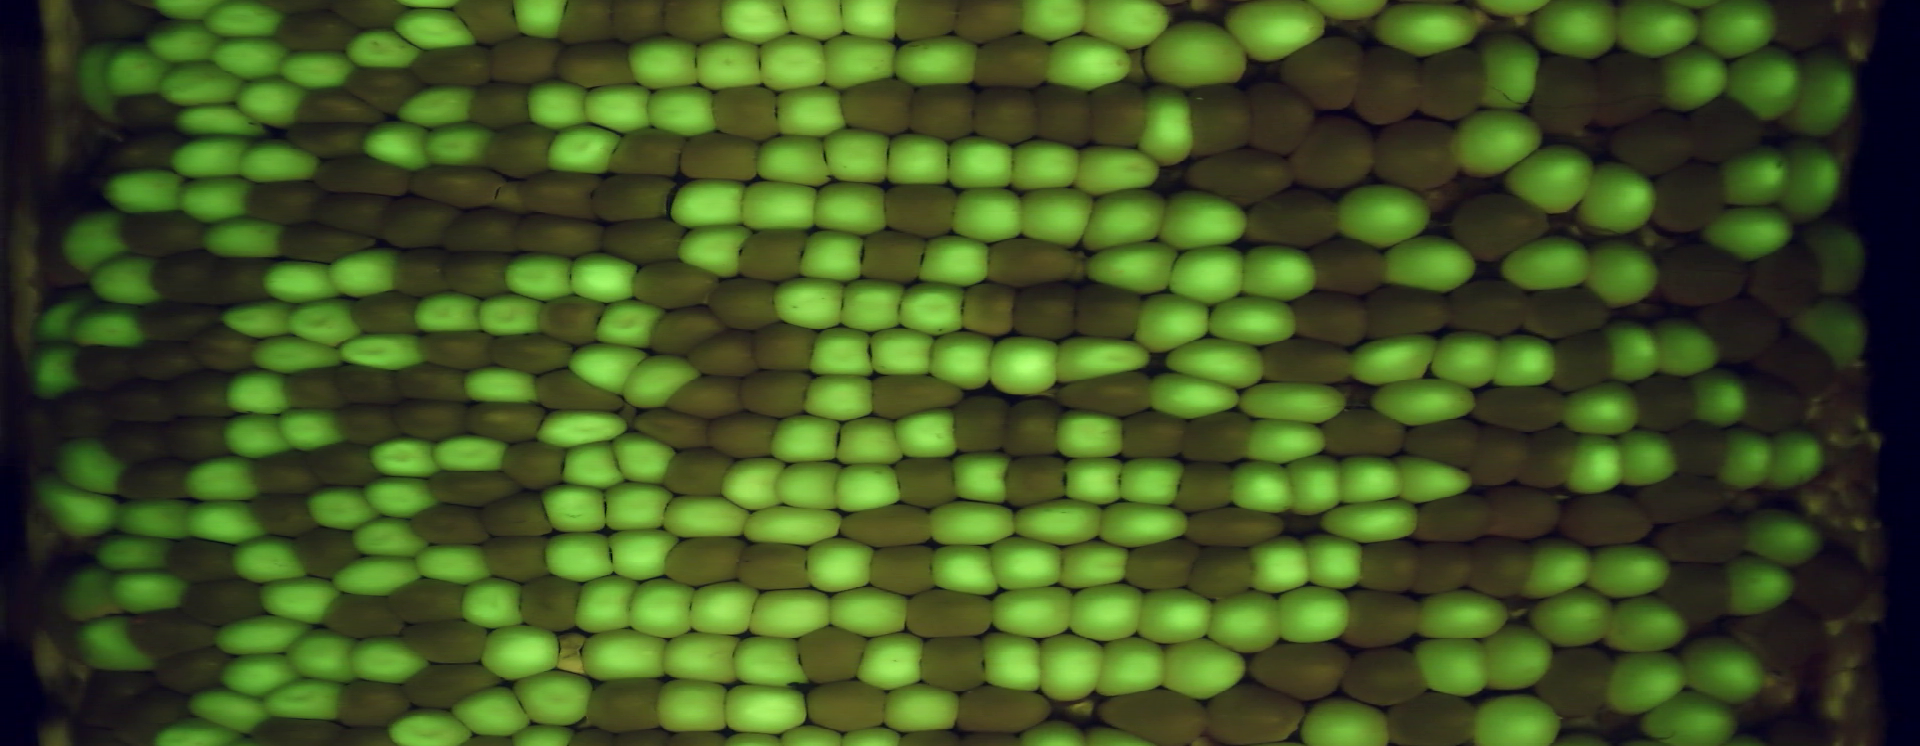fluorescent: (1707, 37, 1806, 127), (1782, 44, 1866, 138), (1140, 18, 1251, 89), (1447, 107, 1551, 183), (1075, 176, 1172, 257), (1499, 141, 1598, 218), (1365, 1, 1488, 64), (1217, 1, 1333, 66), (1771, 130, 1850, 224), (1570, 158, 1663, 238), (1637, 681, 1750, 746), (1332, 179, 1431, 251), (1473, 27, 1551, 118), (28, 469, 124, 543), (65, 610, 165, 679), (1035, 29, 1138, 96), (1653, 39, 1741, 116), (1576, 236, 1665, 312), (1598, 646, 1689, 719), (1680, 632, 1771, 706), (1380, 230, 1480, 296), (1157, 187, 1254, 256), (1155, 635, 1251, 702), (1596, 590, 1693, 657), (1079, 239, 1187, 299), (1531, 1, 1629, 66), (1493, 230, 1594, 293), (1046, 330, 1156, 387), (1788, 295, 1872, 369), (1407, 586, 1513, 643), (1032, 630, 1111, 707), (1523, 586, 1616, 650), (1204, 587, 1287, 659), (1464, 691, 1573, 746), (1015, 179, 1100, 250), (1476, 624, 1560, 695), (1581, 541, 1678, 603), (1516, 534, 1605, 600), (1613, 1, 1704, 65), (617, 350, 705, 416), (1404, 633, 1493, 699), (1008, 492, 1111, 549), (1703, 202, 1798, 263), (1135, 78, 1199, 169), (475, 621, 566, 685), (1236, 379, 1353, 428), (1344, 330, 1442, 388), (1693, 1, 1793, 59), (1367, 379, 1483, 428), (1128, 290, 1213, 356), (1801, 216, 1871, 296), (887, 33, 984, 91), (576, 627, 673, 685), (1168, 240, 1250, 309), (1272, 582, 1356, 649), (1741, 502, 1824, 570), (178, 681, 279, 736), (1205, 292, 1302, 349), (982, 330, 1060, 401), (726, 628, 813, 692), (1075, 1, 1176, 56), (255, 671, 355, 726), (1145, 366, 1245, 421), (49, 432, 132, 499), (742, 584, 838, 642), (984, 583, 1080, 641), (975, 627, 1051, 699), (1718, 552, 1798, 621), (509, 668, 598, 729), (816, 34, 905, 94), (562, 339, 651, 399), (660, 628, 749, 688), (69, 36, 126, 129), (1297, 693, 1398, 746), (1424, 326, 1505, 392), (156, 56, 252, 111), (1068, 143, 1164, 198), (721, 679, 816, 735), (1556, 379, 1644, 439), (752, 29, 831, 96), (751, 130, 836, 191), (1164, 338, 1266, 390), (622, 31, 704, 94), (1065, 579, 1147, 643), (601, 524, 688, 584), (167, 171, 263, 225), (947, 183, 1030, 245), (56, 207, 133, 274), (827, 582, 915, 641), (1236, 241, 1320, 303), (233, 135, 331, 187), (924, 499, 1022, 551), (1318, 497, 1423, 546), (684, 579, 765, 643), (924, 539, 1005, 603), (1390, 448, 1476, 508), (1760, 425, 1829, 499), (808, 176, 890, 239), (1133, 584, 1215, 647), (1716, 145, 1800, 205), (653, 673, 733, 735), (1093, 501, 1194, 551), (623, 576, 697, 644), (256, 571, 345, 627), (876, 680, 965, 736), (329, 549, 425, 601), (162, 100, 276, 145), (923, 328, 999, 394), (1093, 635, 1171, 699), (541, 119, 624, 179), (1327, 450, 1411, 510), (989, 532, 1068, 595), (687, 32, 767, 94), (770, 78, 850, 141), (1713, 424, 1780, 497), (768, 274, 850, 334), (211, 611, 309, 661), (656, 491, 754, 541), (96, 167, 191, 218), (178, 451, 264, 507), (816, 127, 894, 190), (942, 132, 1021, 194), (666, 174, 751, 232), (225, 530, 313, 586), (913, 232, 994, 292), (800, 535, 876, 599), (351, 632, 433, 691), (164, 129, 253, 183), (737, 178, 820, 235), (576, 78, 662, 134), (1242, 532, 1313, 599), (1052, 404, 1131, 464), (740, 503, 845, 549), (207, 29, 295, 83), (894, 278, 970, 341), (140, 16, 231, 67), (84, 251, 167, 309), (768, 457, 850, 514), (1224, 456, 1303, 516), (1002, 137, 1085, 194), (571, 572, 643, 637), (447, 684, 534, 737), (193, 216, 291, 263), (795, 225, 869, 288), (598, 480, 682, 535), (718, 454, 793, 516), (231, 73, 309, 134), (567, 249, 644, 309), (640, 82, 722, 138), (324, 245, 407, 301), (589, 296, 675, 350), (255, 257, 347, 307), (852, 628, 924, 692), (391, 81, 484, 130), (247, 330, 345, 376), (26, 292, 102, 352), (415, 120, 503, 171), (835, 276, 912, 334), (534, 405, 637, 450), (535, 479, 612, 538), (184, 495, 269, 548), (940, 447, 1014, 508), (274, 44, 361, 96), (1651, 320, 1727, 379), (56, 560, 125, 625), (1689, 361, 1753, 430), (100, 38, 171, 100), (407, 538, 495, 588), (675, 222, 748, 282), (301, 481, 381, 537), (765, 412, 845, 467), (1240, 416, 1332, 464), (214, 409, 298, 462), (1565, 431, 1630, 499), (1615, 423, 1680, 490), (828, 458, 904, 516), (280, 296, 365, 348), (285, 626, 358, 686), (804, 322, 878, 381), (216, 650, 304, 699), (542, 527, 616, 586), (889, 405, 962, 464), (109, 492, 195, 543), (1282, 450, 1348, 514), (1596, 318, 1662, 383), (1299, 530, 1368, 593), (359, 118, 435, 174), (355, 472, 444, 519), (800, 372, 880, 425), (609, 429, 681, 488), (426, 432, 519, 478), (882, 130, 953, 189), (830, 412, 902, 469), (1056, 537, 1134, 589), (220, 365, 295, 420), (388, 6, 479, 51), (336, 331, 426, 376), (340, 26, 429, 72), (88, 530, 181, 575), (1488, 332, 1559, 390), (457, 575, 529, 631), (22, 341, 87, 403), (1116, 454, 1189, 510), (557, 439, 632, 492), (502, 250, 579, 301), (274, 405, 353, 456), (475, 287, 550, 339), (520, 77, 591, 132), (70, 300, 146, 352), (342, 516, 430, 560), (460, 364, 546, 409), (364, 435, 447, 481), (151, 709, 256, 746), (1056, 454, 1127, 508), (714, 1, 796, 48), (868, 325, 937, 380), (384, 704, 475, 746), (197, 1, 291, 40), (410, 289, 487, 337), (1014, 1, 1095, 47), (216, 298, 299, 341), (105, 570, 192, 610), (835, 1, 902, 47), (780, 1, 847, 44), (507, 1, 572, 43), (148, 1, 239, 26), (775, 722, 853, 746), (508, 720, 577, 746), (836, 724, 909, 746)
nonfluorescent: (1445, 187, 1556, 265), (1280, 109, 1381, 192), (1275, 33, 1371, 120), (1176, 145, 1300, 211), (1090, 684, 1216, 746), (1731, 599, 1833, 675), (1368, 118, 1464, 197), (1741, 233, 1827, 322), (1196, 679, 1309, 746), (1237, 183, 1343, 254), (1245, 639, 1356, 706), (1237, 75, 1322, 159), (1346, 39, 1425, 130), (1409, 42, 1495, 125), (1584, 45, 1667, 131), (1526, 48, 1600, 141), (1536, 639, 1619, 723), (1785, 546, 1878, 619), (1656, 239, 1751, 309), (1750, 330, 1844, 399), (396, 658, 514, 713), (1649, 154, 1727, 239), (1338, 639, 1431, 709), (1607, 107, 1700, 176), (1554, 489, 1660, 549), (39, 552, 91, 674), (121, 604, 223, 665), (1378, 688, 1484, 746), (1653, 559, 1735, 633), (399, 160, 516, 213), (1341, 583, 1424, 657), (977, 234, 1085, 290), (1183, 80, 1258, 159), (1300, 233, 1393, 296), (1359, 281, 1456, 342), (1518, 282, 1615, 343), (658, 529, 756, 589), (951, 682, 1056, 739), (800, 676, 895, 737), (375, 191, 468, 254), (1442, 277, 1536, 339), (504, 167, 605, 224), (1180, 502, 1296, 552), (864, 369, 969, 424), (793, 619, 876, 688), (1689, 94, 1768, 165), (1656, 512, 1753, 570), (967, 31, 1056, 94), (876, 179, 964, 243), (113, 208, 214, 263), (1067, 274, 1146, 344), (1284, 289, 1375, 350), (529, 365, 634, 418), (834, 500, 937, 552), (1467, 381, 1572, 432), (1544, 325, 1619, 397), (1462, 530, 1538, 601), (902, 586, 998, 642), (1625, 369, 1704, 436), (508, 208, 609, 261), (1258, 337, 1358, 390), (627, 258, 722, 314), (433, 203, 527, 260), (1485, 479, 1567, 543), (480, 119, 563, 181), (1184, 541, 1262, 608), (673, 130, 765, 186), (276, 220, 383, 268), (1120, 537, 1206, 597), (1515, 418, 1584, 491), (1734, 366, 1807, 436), (838, 76, 920, 138), (1461, 421, 1536, 490), (707, 80, 786, 143), (853, 225, 933, 289), (1177, 405, 1256, 469), (1054, 369, 1155, 419), (1636, 474, 1734, 526), (1085, 78, 1152, 153), (969, 82, 1044, 148), (307, 149, 415, 196), (378, 575, 471, 628), (582, 677, 665, 737), (1318, 407, 1412, 459), (144, 247, 225, 309), (81, 665, 156, 731), (33, 214, 93, 296), (397, 619, 495, 669), (1398, 414, 1485, 470), (340, 62, 431, 116), (645, 303, 730, 360), (1411, 491, 1499, 546), (315, 590, 411, 641), (913, 633, 989, 697), (591, 169, 677, 225), (659, 372, 754, 423), (594, 216, 687, 267), (1031, 78, 1098, 149), (1663, 416, 1735, 483), (731, 225, 811, 285), (473, 529, 551, 589), (905, 78, 977, 143), (331, 675, 418, 729), (148, 641, 235, 695), (707, 272, 780, 336), (1407, 535, 1482, 598), (737, 366, 819, 423), (656, 445, 738, 501), (171, 579, 266, 628), (316, 184, 394, 243), (551, 39, 640, 91), (242, 176, 329, 229), (484, 328, 579, 376), (703, 410, 787, 464), (605, 124, 687, 179), (680, 326, 763, 380), (126, 334, 209, 388), (162, 532, 245, 586), (1764, 1, 1845, 56), (950, 390, 1014, 459), (999, 450, 1071, 511), (1009, 282, 1082, 342), (75, 1, 167, 49), (485, 31, 564, 86), (475, 488, 555, 543), (863, 541, 939, 599), (733, 541, 816, 594), (629, 405, 718, 454), (272, 7, 358, 58), (392, 360, 478, 410), (384, 394, 470, 445), (178, 323, 261, 375), (891, 450, 960, 512), (287, 523, 362, 579), (460, 399, 547, 448), (246, 445, 323, 500), (1167, 458, 1239, 517), (345, 285, 424, 339), (306, 439, 384, 492), (408, 42, 496, 89), (403, 501, 491, 549), (163, 409, 238, 465), (1352, 538, 1427, 594), (513, 573, 580, 636), (331, 358, 407, 413), (288, 86, 384, 129), (136, 296, 220, 345), (998, 399, 1063, 463), (425, 468, 524, 510), (436, 246, 514, 299), (535, 294, 610, 349), (277, 361, 351, 416), (1116, 409, 1193, 462), (955, 279, 1021, 341), (747, 318, 820, 374), (495, 439, 568, 494), (111, 458, 198, 505), (1763, 697, 1845, 746), (127, 684, 200, 739), (411, 325, 495, 372), (245, 491, 323, 541), (327, 401, 407, 450), (100, 130, 189, 174), (103, 379, 180, 429), (462, 77, 530, 134), (271, 119, 366, 159), (100, 419, 175, 469), (49, 383, 113, 442), (167, 369, 235, 423), (238, 710, 340, 746), (950, 1, 1029, 48), (111, 92, 189, 138), (452, 1, 522, 51), (67, 342, 137, 392), (209, 254, 276, 306), (388, 246, 449, 301), (889, 1, 960, 48), (553, 1, 620, 50), (606, 1, 673, 49), (660, 1, 729, 48), (23, 397, 64, 473), (324, 1, 409, 34), (324, 723, 403, 746)
